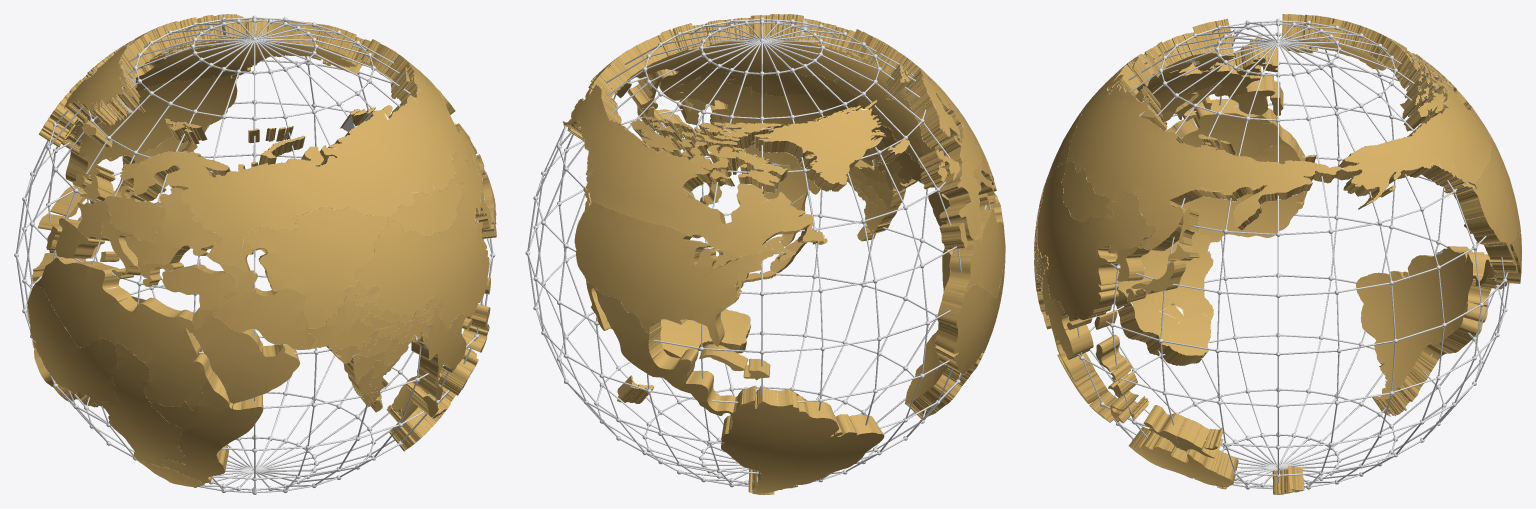
The model's file is FINAL_globe.glb.
3 renders of one model, left to right at view 1: azimuth 30°, elevation 25°; view 2: azimuth 150°, elevation 25°; view 3: azimuth 270°, elevation 25°, orthographic.
Parts seen in each view (by area): view 1: CIRPOLAR, frame, N_AFRICA, C_ASIA, CHINESE, AMER, E_AFRICA, W_AFRICA, MID_EAST, S_E_ASIA, C_AFRICA, IRAN (+19 smaller); view 2: CIRPOLAR, frame, AMER, S_AMERICA, MEX_CAR, CHINESE, W_AFRICA, C_ASIA, N_AFRICA, AUS, S_E_ASIA, JAPAN (+14 smaller); view 3: CIRPOLAR, frame, S_AMERICA, CHINESE, S_E_ASIA, AMER, N_AFRICA, W_AFRICA, AUS, C_AFRICA, E_AFRICA, C_ASIA (+11 smaller).
Boxes of the visible parts, bbox=[...] form: CIRPOLAR: bbox=[39, 14, 482, 272]; frame: bbox=[14, 15, 495, 494]; N_AFRICA: bbox=[34, 257, 213, 410]; C_ASIA: bbox=[244, 179, 463, 328]; CHINESE: bbox=[353, 153, 489, 327]; AMER: bbox=[61, 75, 238, 182]; E_AFRICA: bbox=[151, 372, 263, 483]; W_AFRICA: bbox=[27, 285, 117, 406]; MID_EAST: bbox=[192, 316, 300, 403]; S_E_ASIA: bbox=[405, 277, 490, 418]; C_AFRICA: bbox=[102, 343, 185, 468]; IRAN: bbox=[211, 262, 314, 350]; CIRPOLAR: bbox=[563, 14, 963, 266]; frame: bbox=[525, 17, 990, 487]; AMER: bbox=[574, 201, 773, 346]; S_AMERICA: bbox=[721, 385, 884, 494]; MEX_CAR: bbox=[586, 282, 770, 416]; CHINESE: bbox=[678, 68, 882, 168]; W_AFRICA: bbox=[935, 264, 1004, 374]; C_ASIA: bbox=[724, 70, 922, 163]; N_AFRICA: bbox=[945, 193, 1005, 299]; AUS: bbox=[617, 309, 751, 403]; S_E_ASIA: bbox=[700, 161, 820, 282]; JAPAN: bbox=[627, 71, 683, 138]; CIRPOLAR: bbox=[1067, 14, 1491, 251]; frame: bbox=[1077, 18, 1509, 489]; S_AMERICA: bbox=[1356, 246, 1491, 416]; CHINESE: bbox=[1037, 161, 1156, 321]; S_E_ASIA: bbox=[1041, 266, 1184, 449]; AMER: bbox=[1453, 133, 1521, 246]; N_AFRICA: bbox=[1165, 99, 1292, 157]; W_AFRICA: bbox=[1188, 136, 1307, 242]; AUS: bbox=[1128, 427, 1304, 494]; C_AFRICA: bbox=[1142, 202, 1213, 319]; E_AFRICA: bbox=[1115, 250, 1184, 355]; C_ASIA: bbox=[1044, 108, 1113, 221].
Bounding box in the file's own units: 2.46 × 2.42 × 2.49.
